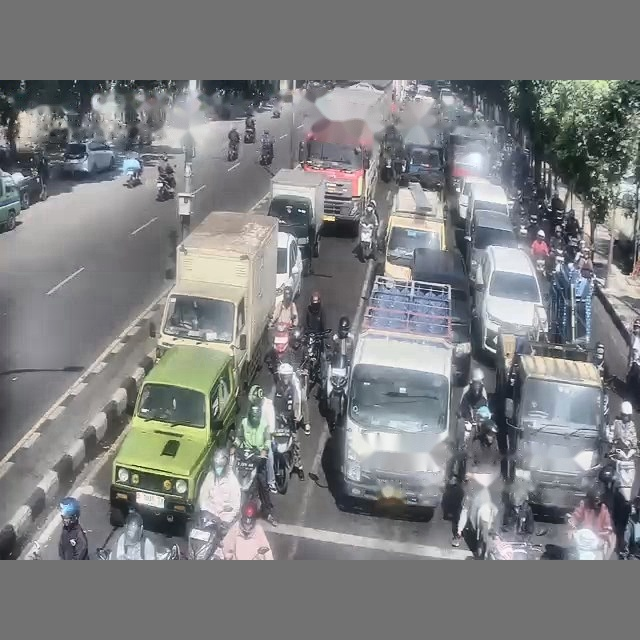Mobil: (411, 248, 471, 385), (472, 246, 547, 354), (10, 150, 48, 209), (276, 232, 302, 304), (62, 140, 115, 175), (0, 172, 20, 230)
Motor: (272, 393, 295, 494), (300, 330, 330, 396), (187, 511, 227, 559), (325, 350, 349, 430), (609, 444, 637, 502), (267, 322, 293, 377), (234, 447, 260, 502), (570, 528, 605, 559), (359, 221, 376, 260), (156, 175, 174, 201), (259, 147, 273, 165), (227, 142, 238, 161), (244, 128, 255, 143)
Truk: (337, 276, 454, 507), (150, 211, 277, 388), (298, 83, 391, 225), (267, 168, 325, 273), (549, 264, 593, 346)
